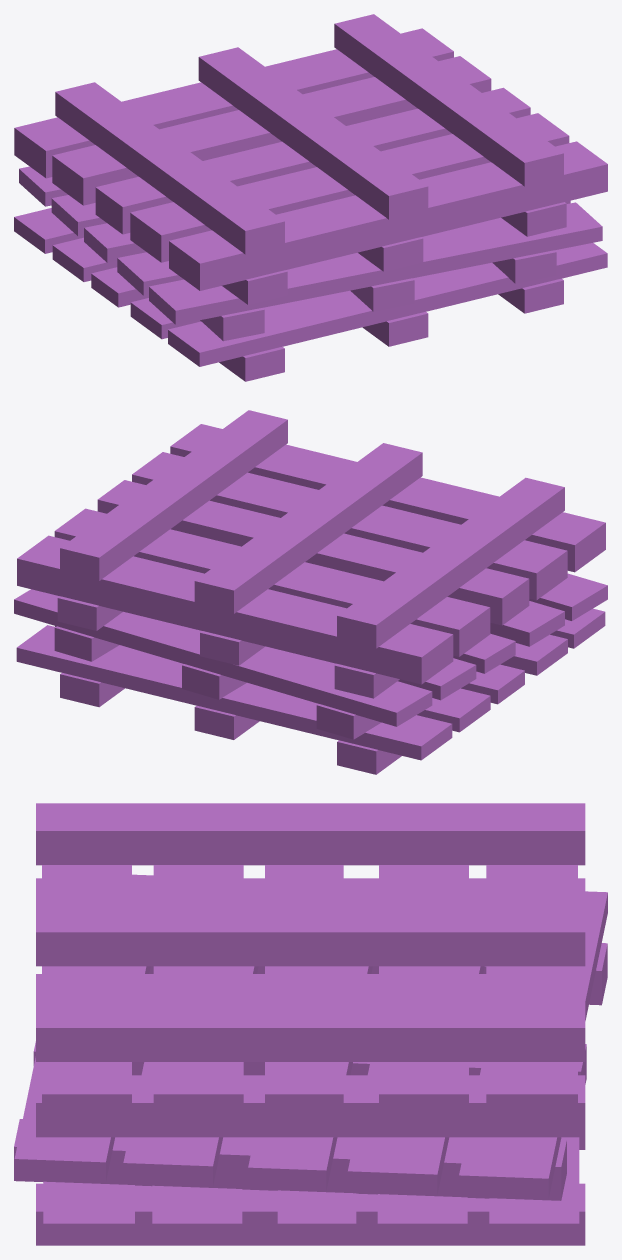
Rendered from Pallet_Stacked.fbx.
3 renders of one model, top to bottom at view 1: azimuth 30°, elevation 25°; view 2: azimuth 150°, elevation 25°; view 3: azimuth 270°, elevation 25°, orthographic. The views are drawn at different scales.
Visible parts, largest first — view 1: Pallet_Stacked; view 2: Pallet_Stacked; view 3: Pallet_Stacked.
Boxes of the visible parts, box(x1,y1,x2,y2) form: Pallet_Stacked: box(14, 14, 607, 381); Pallet_Stacked: box(14, 410, 607, 774); Pallet_Stacked: box(14, 803, 607, 1245).
Bounding box in the file's own units: 144 × 47.69 × 118.
